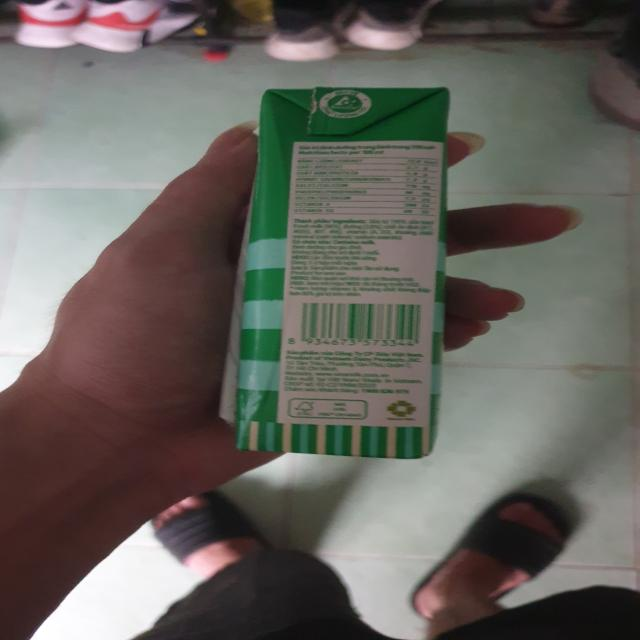Vina: (227, 82, 444, 464)
